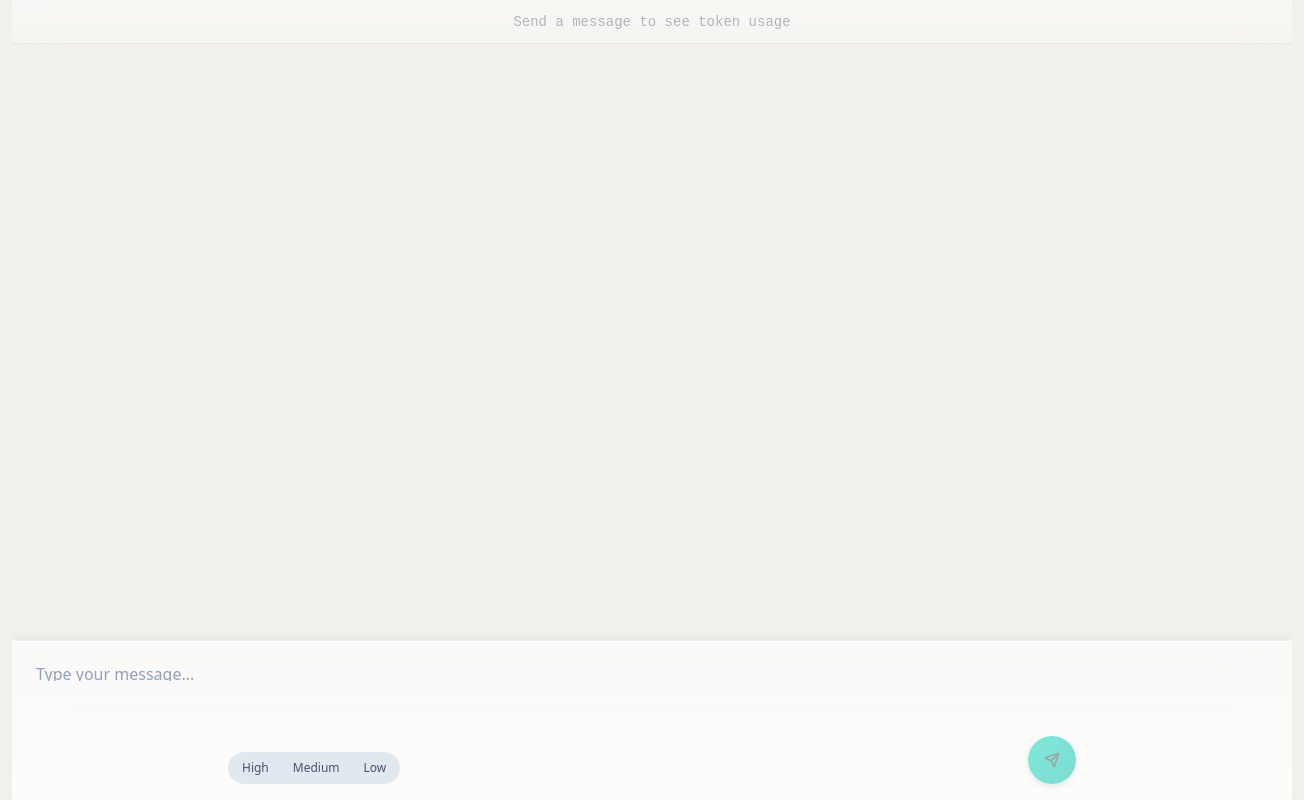
Scenario: Chat Component › disables input while loading
Expected: the 4th button is disabled, top-left (1028, 736), bottom-right (1076, 784)
Type "Test message" into the text box with placeholder "Type your message..." at (652, 661), box top-left (12, 641), bottom-right (1292, 681)
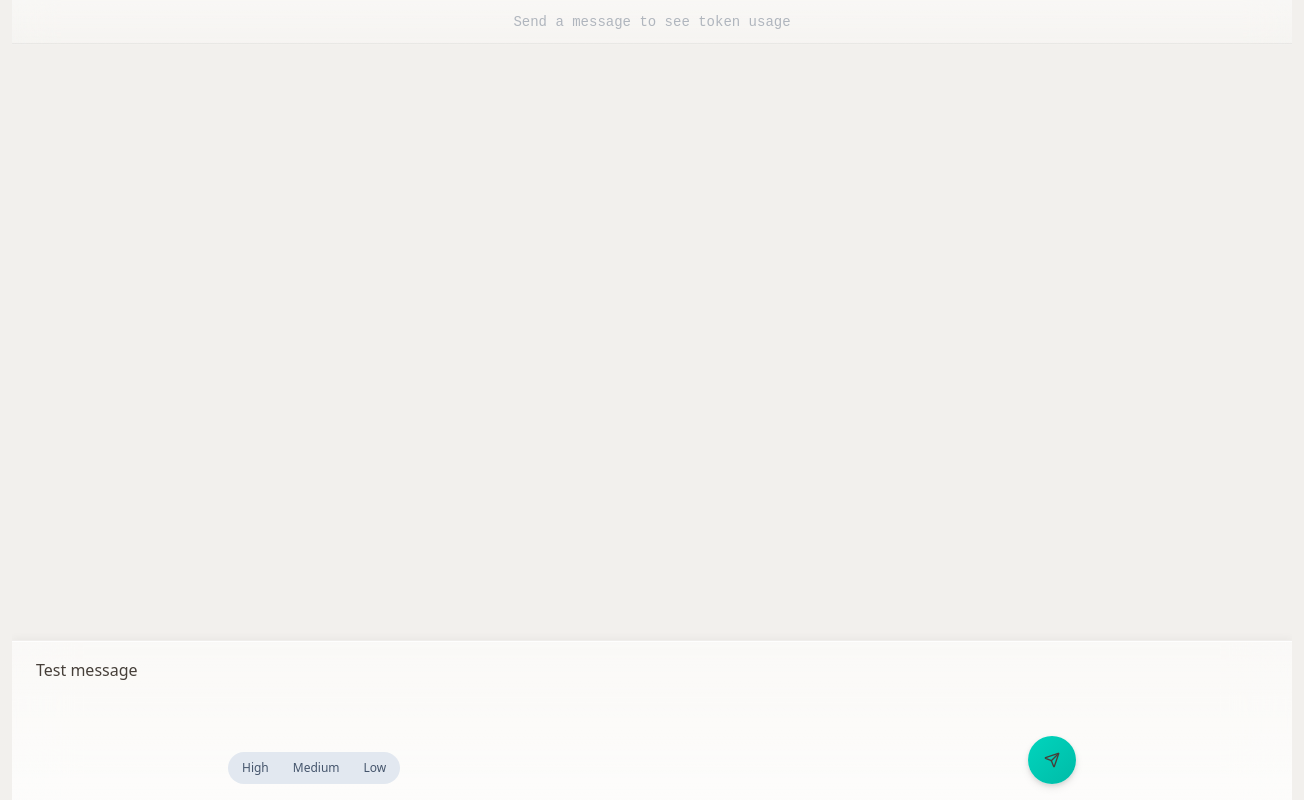
Now the 4th button is enabled, box top-left (1028, 736), bottom-right (1076, 784)
